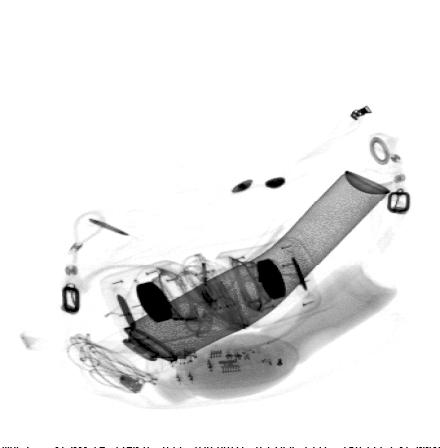Sprayer: (87, 168, 393, 384)
